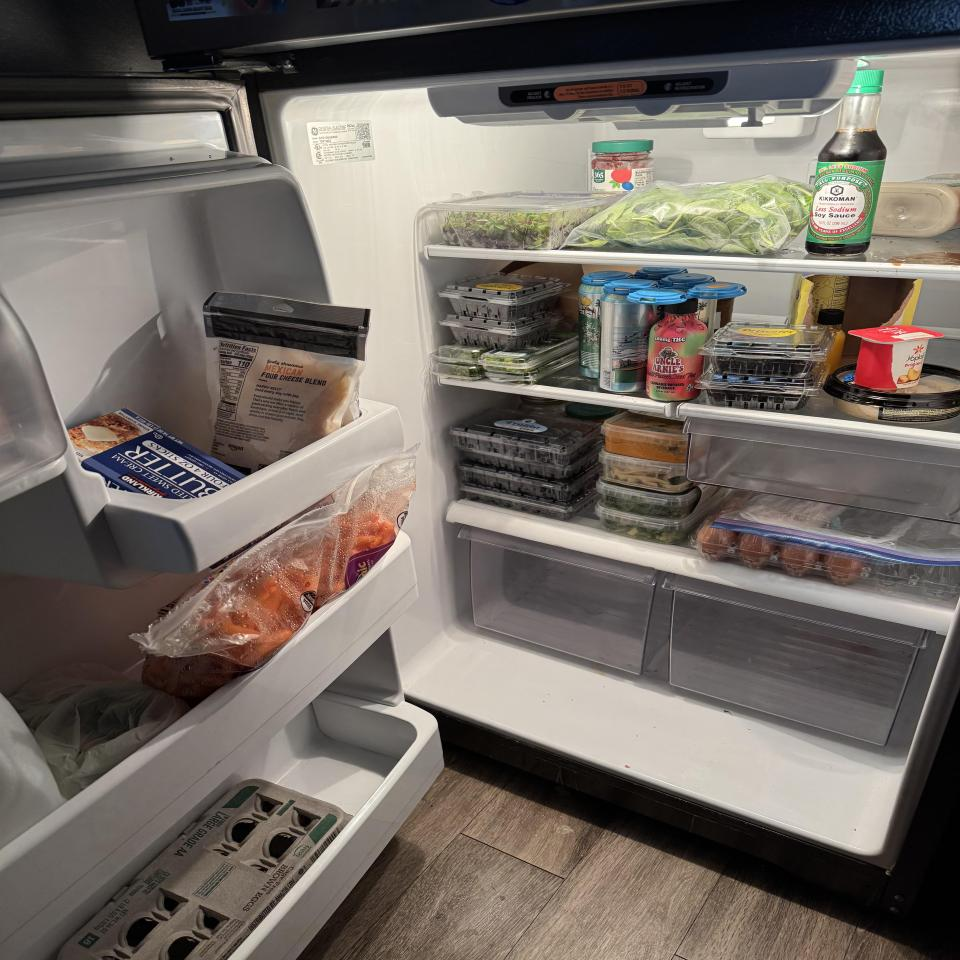Huevos: (58, 778, 355, 960), (689, 489, 868, 586)
Mantequilla: (66, 408, 248, 500)
Zanahoria: (126, 443, 422, 695)
